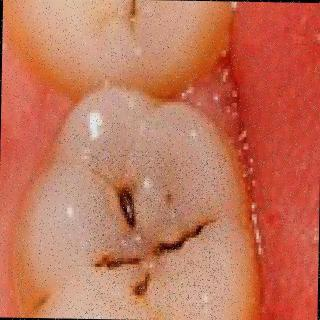cavities: (66, 146, 242, 320)
